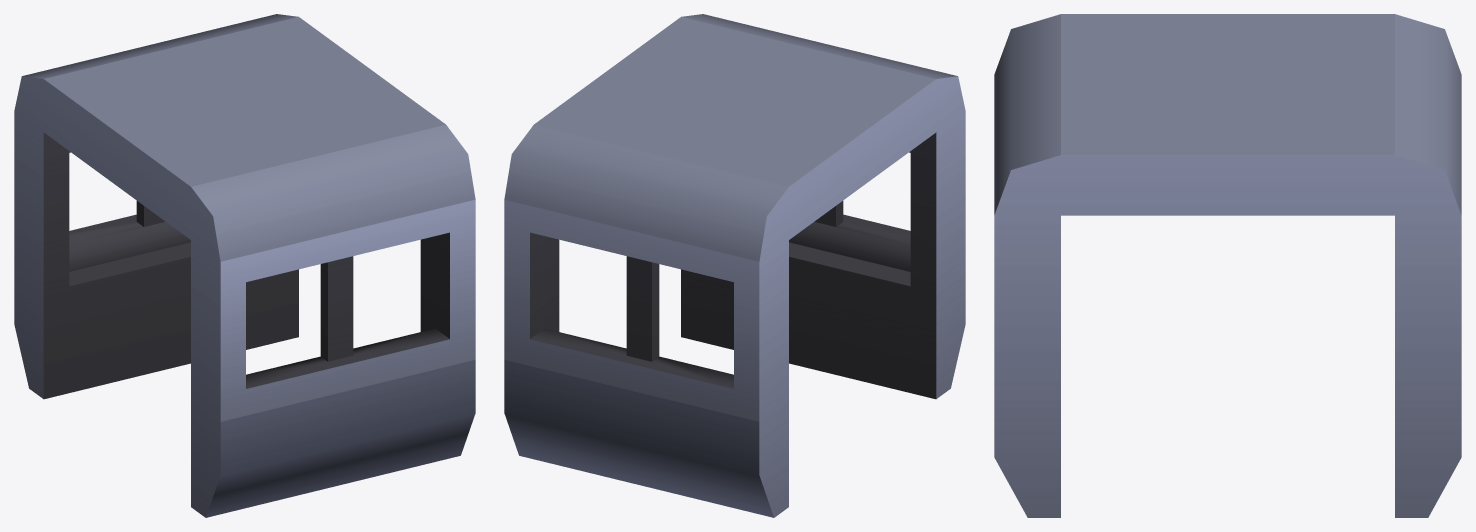
3 renders of one model, left to right at view 1: azimuth 30°, elevation 25°; view 2: azimuth 150°, elevation 25°; view 3: azimuth 270°, elevation 25°, orthographic. The views are drawn at different scales.
Parts seen in each view (by area): view 1: cover_bar; view 2: cover_bar; view 3: cover_bar.
Boxes of the visible parts, x1,y1,x2,y2 form: cover_bar: [14, 14, 475, 517]; cover_bar: [504, 14, 965, 517]; cover_bar: [994, 14, 1461, 517].
Bounding box in the file's own units: 1 × 1.2 × 1.4.
Materials: 1 (1 with a texture image).
